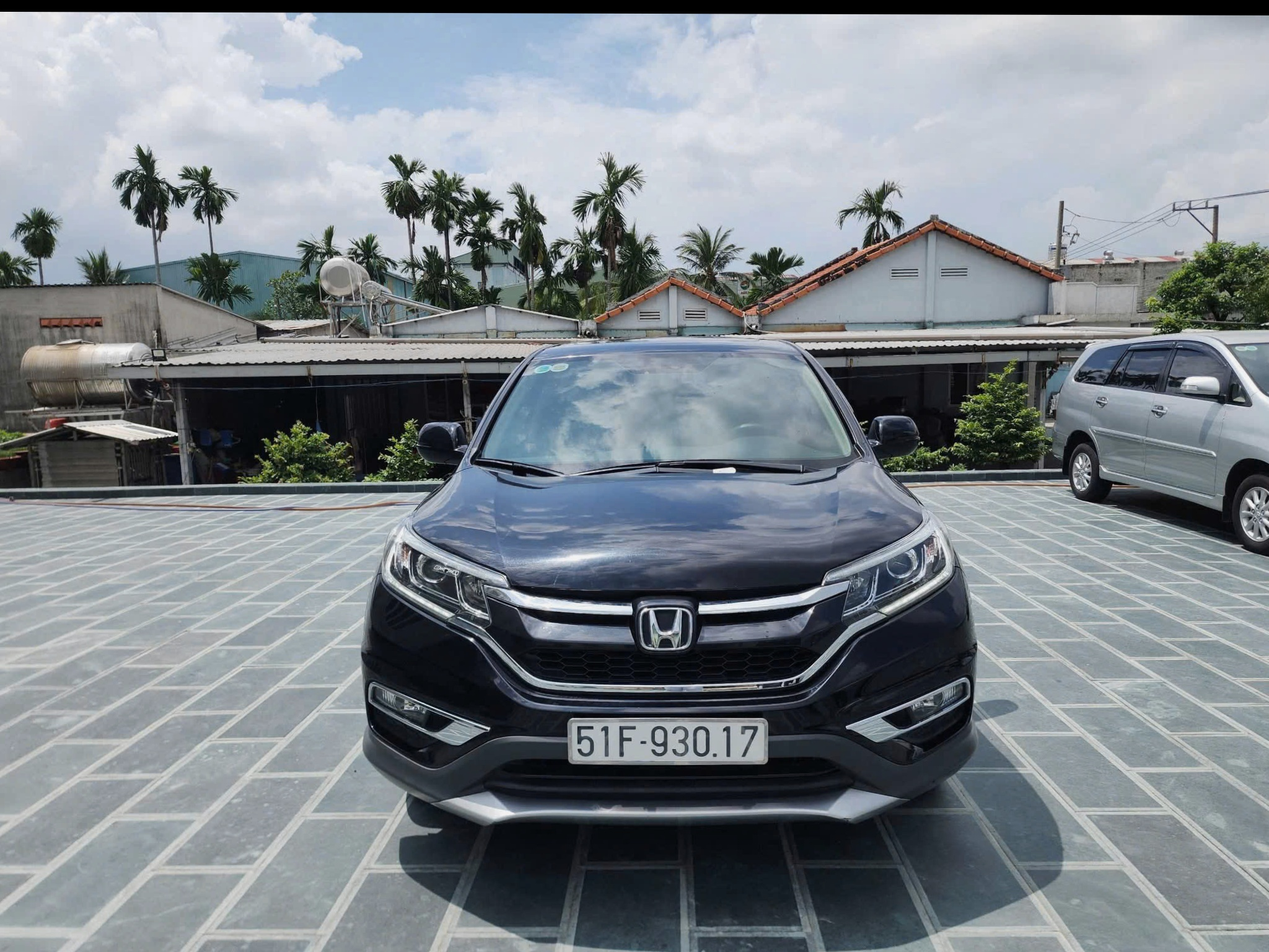Bien-so: (579, 685, 775, 734)
